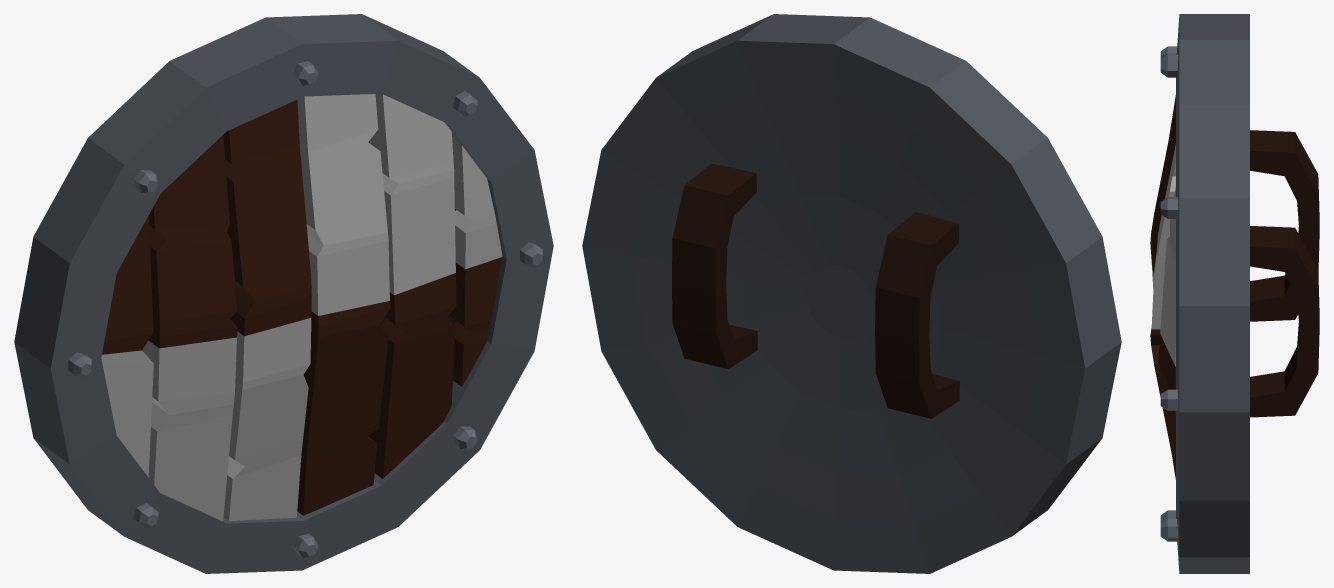
The model's file is Shield_Round_2.obj.
3 renders of one model, left to right at view 1: azimuth 30°, elevation 25°; view 2: azimuth 150°, elevation 25°; view 3: azimuth 270°, elevation 25°, orthographic. The views are drawn at different scales.
Visible parts, largest first — view 1: Shield_Round_2_Cylinder.027; view 2: Shield_Round_2_Cylinder.027; view 3: Shield_Round_2_Cylinder.027.
Part boxes in pixels (bbox=[...]): Shield_Round_2_Cylinder.027: bbox=[14, 14, 553, 573]; Shield_Round_2_Cylinder.027: bbox=[582, 14, 1121, 573]; Shield_Round_2_Cylinder.027: bbox=[1150, 14, 1319, 573].
Size of the model in its own units: 2 by 2 by 0.6037.
